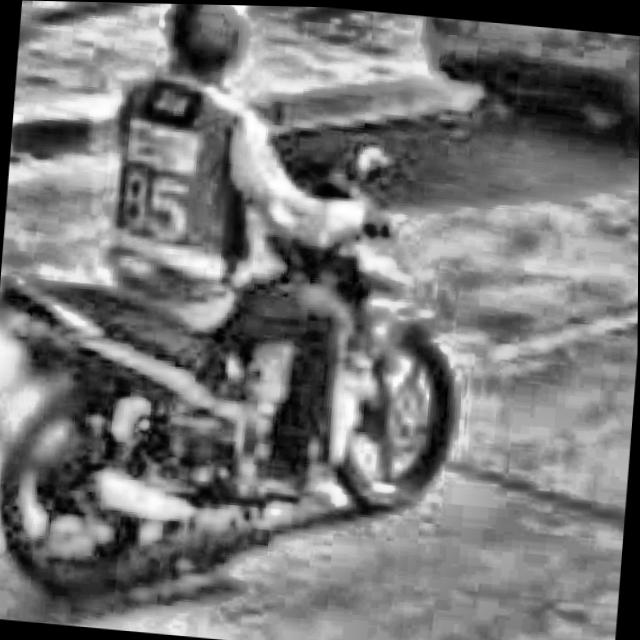motorcycle: (0, 106, 484, 629)
